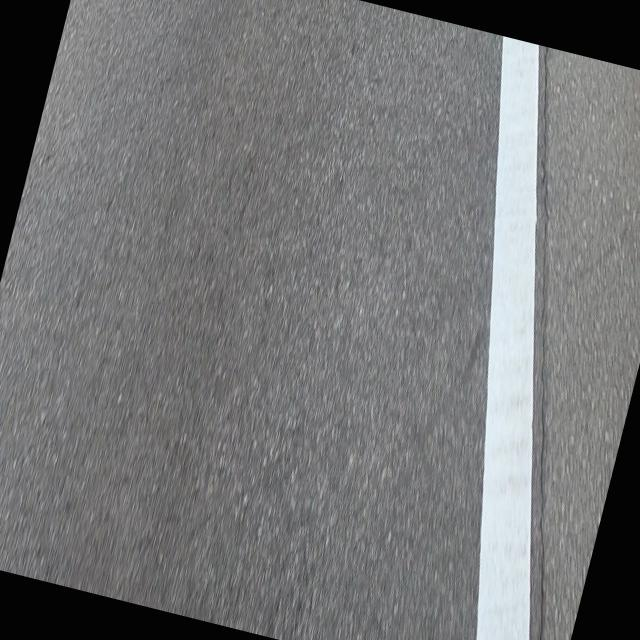Retak-Memanjang: (538, 46, 550, 640)
